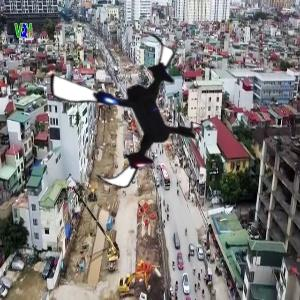drone: (45, 28, 211, 194)
